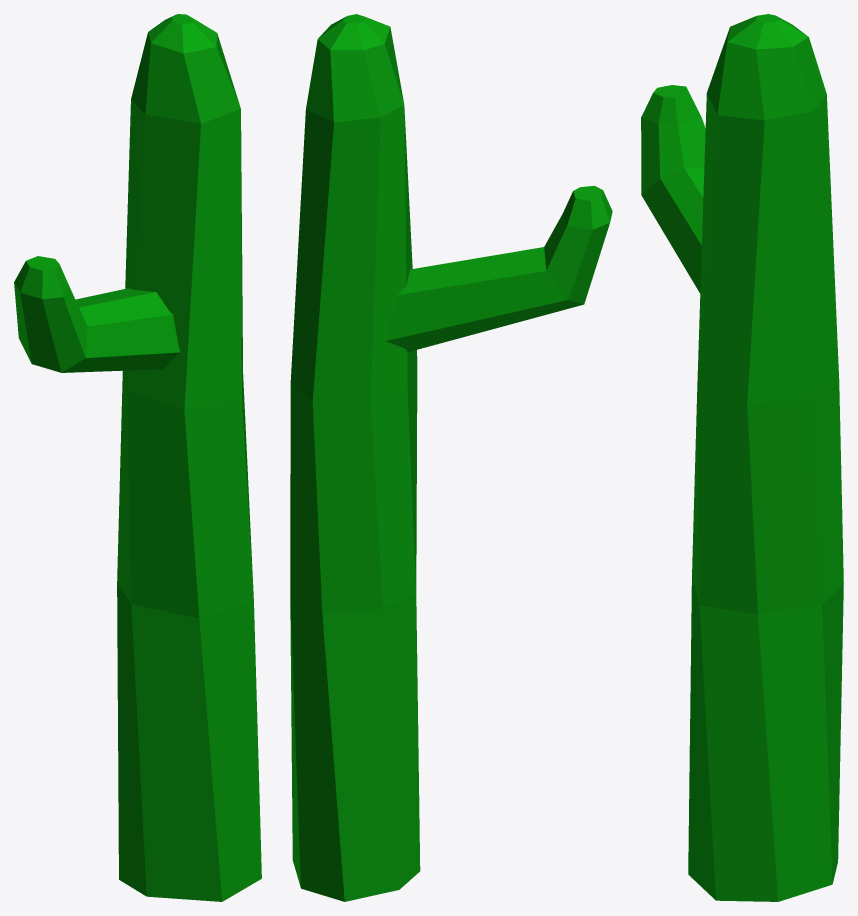
Rendered from Cactus3.fbx.
The picture shows the model from 3 angles, left to right: view 1: azimuth 30°, elevation 25°; view 2: azimuth 150°, elevation 25°; view 3: azimuth 270°, elevation 25°; orthographic projection.
Visible parts, largest first — view 1: Cactus2; view 2: Cactus2; view 3: Cactus2.
Part boxes in pixels (x1=…): Cactus2: x1=14, y1=14, x2=261, y2=901; Cactus2: x1=290, y1=14, x2=612, y2=901; Cactus2: x1=641, y1=14, x2=843, y2=901.
Size of the model in its own units: 155 by 474 by 102.
